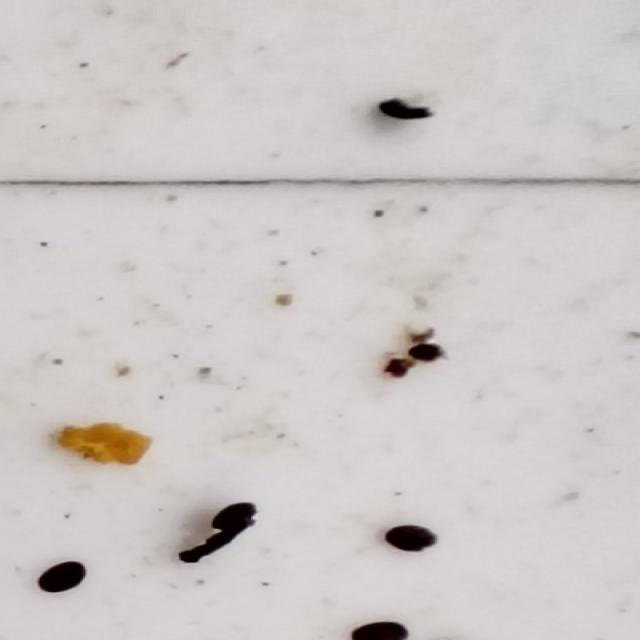varroa: (36, 562, 90, 595), (383, 524, 439, 554), (214, 504, 262, 533), (376, 100, 433, 124), (350, 620, 414, 640)
